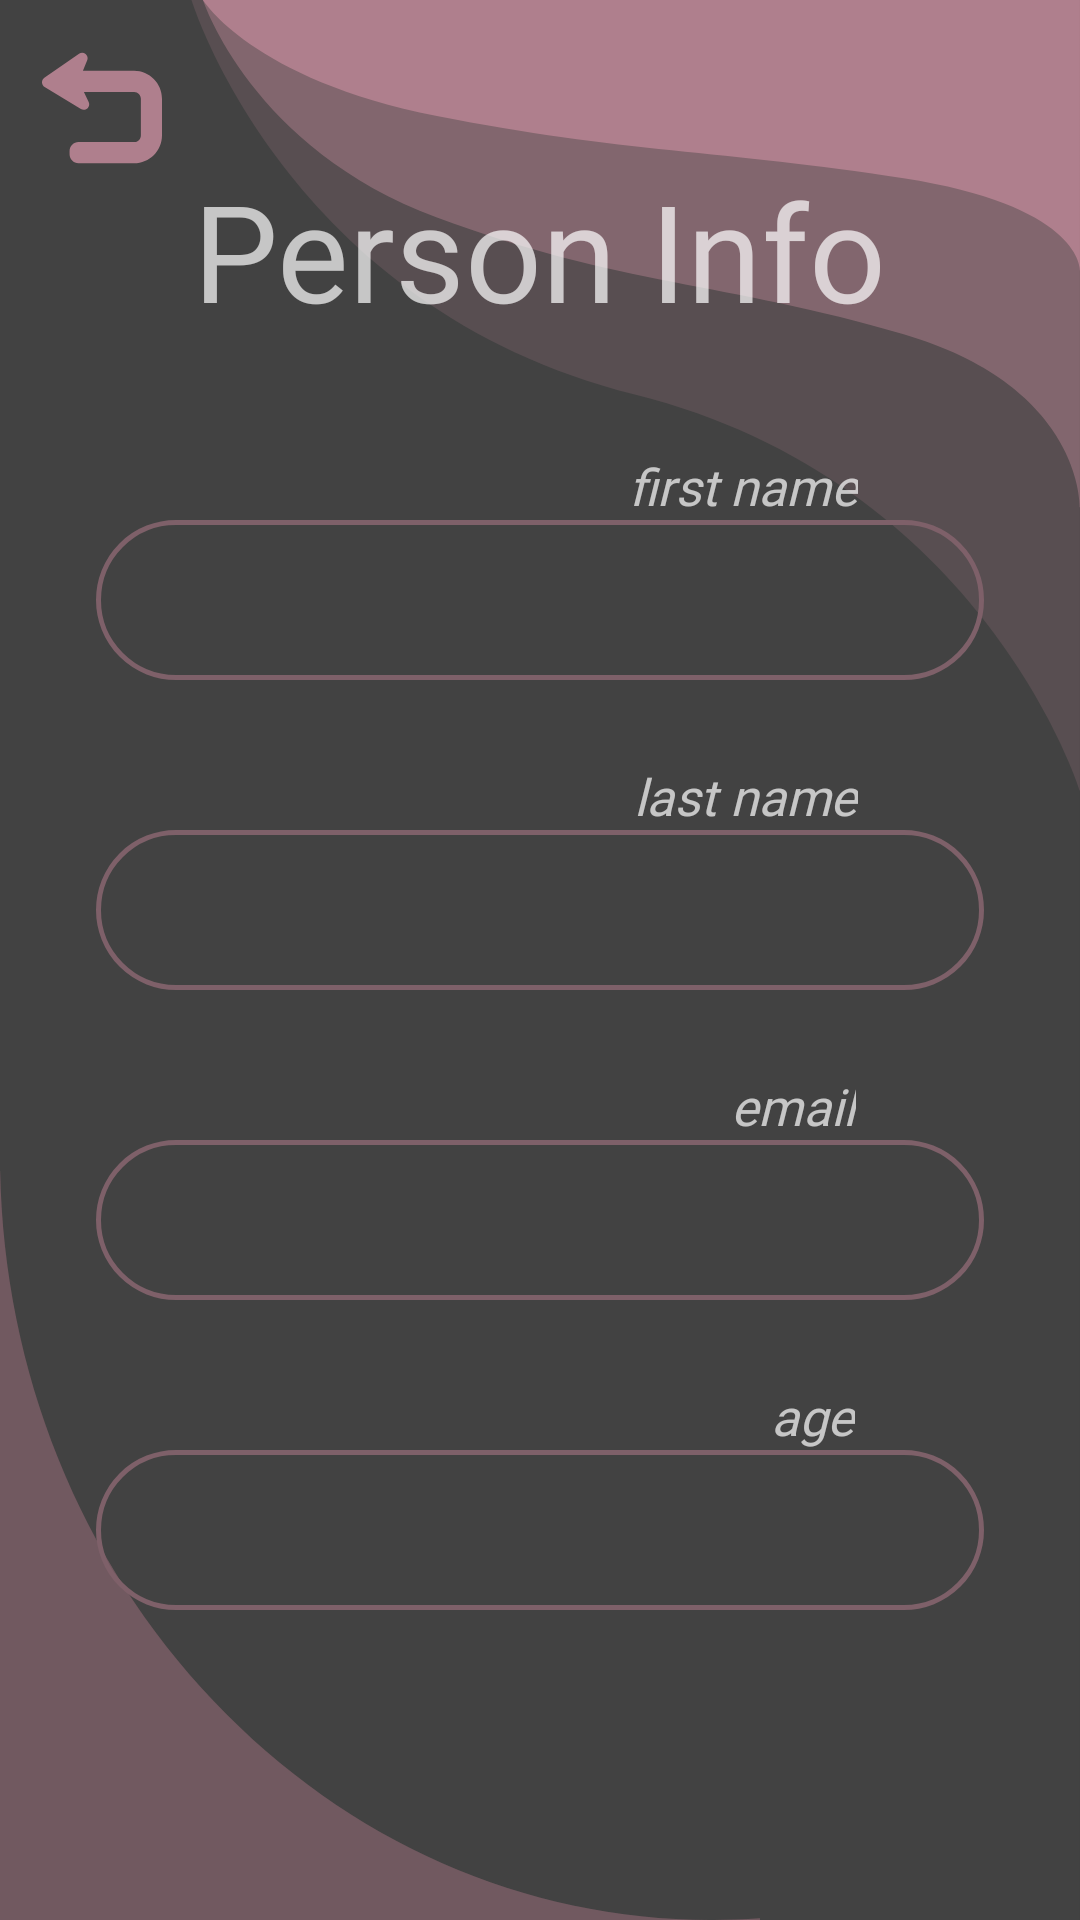

Point at icon controls on the screen. Image size 1080x1920, points as point (x, y).
return: point (102, 108)
